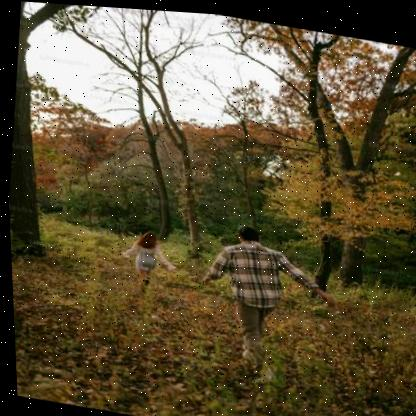person: (195, 216, 357, 383), (113, 220, 185, 296)
